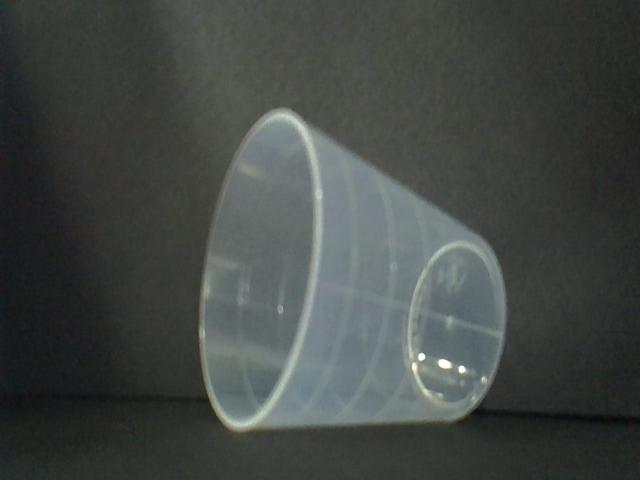cup: (195, 106, 509, 433)
